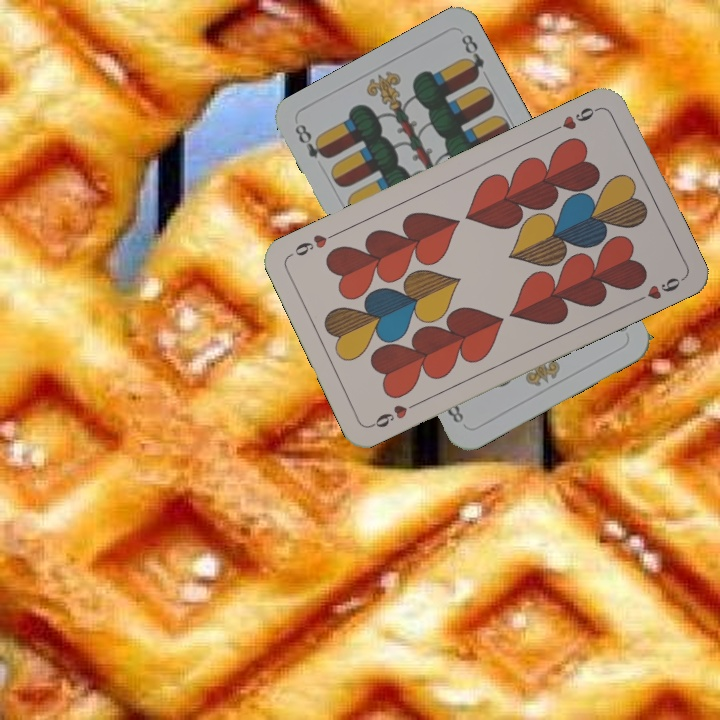E8: (290, 120, 332, 162)
H9: (367, 397, 422, 431), (548, 103, 604, 135)
